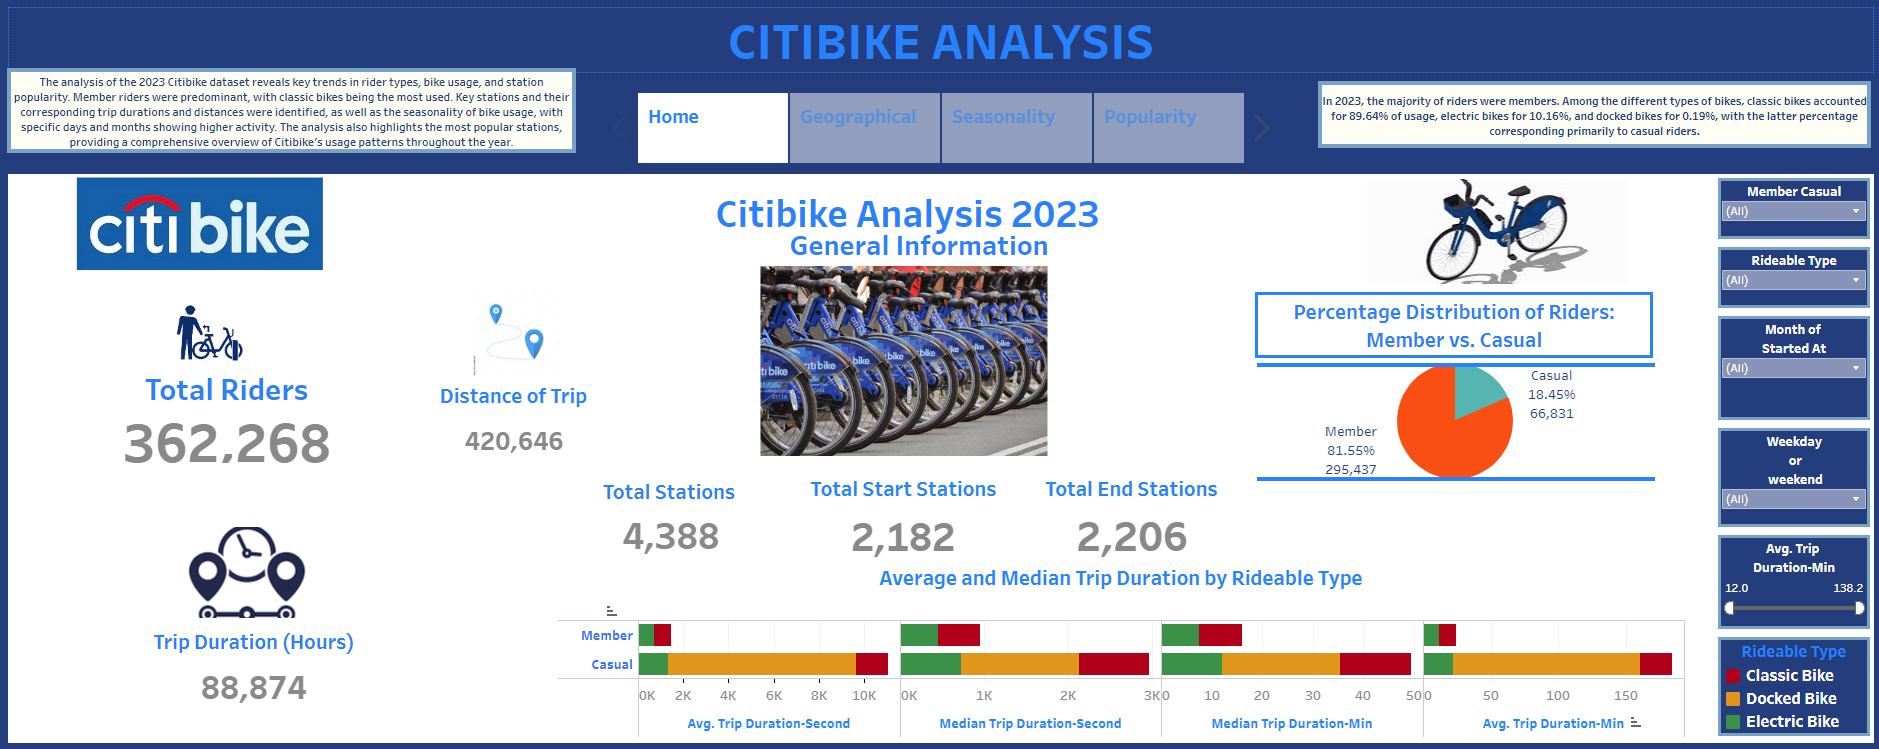

What the dashboard file says about the page in this screenshot:
{"tool":"tableau","page":{"name":"General Information","canvas":[1000,1000],"units":"permille","ordinal":3},"visuals":[{"type":"filter","title":"Member vs Casual pie","param":"[federated.0w41ppg0dqevix11k8kzt1k9ii9s].[none:member_casual:nk]","box":[906.5,0,93.5,75.9]},{"type":"image","param":"C:/Users/Isbelis/Documents/Bootcamp/Homework/Tableau-challenge/CITIBIKE-TABLEAU-","box":[700.6,9.3,194.7,184.6]},{"type":"title","box":[247.6,12.8,468.8,106.3]},{"type":"image","param":"C:/Users/Isbelis/Documents/Bootcamp/Homework/Tableau-challenge/CITIBIKE-TABLEAU-","box":[102.3,54.9,154.9,102.8]},{"type":"text","box":[320.1,74.8,336.4,95.8]},{"type":"filter","title":"Member vs Casual pie","param":"[federated.0w41ppg0dqevix11k8kzt1k9ii9s].[none:rideable_type:nk]","box":[906.5,75.9,93.5,75.9]},{"type":"image","param":"C:/Users/Isbelis/Documents/Bootcamp/Homework/Tableau-challenge/CITIBIKE-TABLEAU-","box":[376.4,150.7,225.6,269.9]},{"type":"filter","title":"Member vs Casual pie","param":"[federated.0w41ppg0dqevix11k8kzt1k9ii9s].[mn:started_at:ok]","box":[906.5,151.9,93.5,130.8]},{"type":"text","box":[4.1,154.2,350.7,204.4]},{"type":"worksheet","title":"Member vs Casual pie","mark":"Pie","box":[668.4,206.8,214,332.9]},{"type":"filter","title":"Member vs Casual pie","param":"[federated.0w41ppg0dqevix11k8kzt1k9ii9s].[none:Calculation_2480639024720158736:n","box":[906.5,282.7,93.5,118]},{"type":"image","param":"C:/Users/Isbelis/Documents/Bootcamp/Homework/Tableau-challenge/CITIBIKE-TABLEAU-","box":[46.2,361,67.8,98.1]},{"type":"worksheet","title":"Total Stations ","mark":"Automatic","box":[152.5,363.3,116.9,146]},{"type":"worksheet","title":"Total Start Station","mark":"Text","box":[261.2,369.2,122.2,142.5]},{"type":"image","param":"C:/Users/Isbelis/Documents/Bootcamp/Homework/Tableau-challenge/CITIBIKE-TABLEAU-","box":[432.5,428.7,86.5,116.8]},{"type":"worksheet","title":"Total Rides","mark":"Automatic","box":[15.8,466.1,132.7,168.2]},{"type":"worksheet","title":"Total EndStation ","mark":"Text","box":[210.4,498.8,116.9,137.8]},{"type":"worksheet","title":"Total Distance","mark":"Automatic","box":[472.8,515.2,126.8,150.7]},{"type":"legend","title":"Rideable Type AVG and Median Trip duration","param":"[federated.0w41ppg0dqevix11k8kzt1k9ii9s].[none:rideable_type:nk]","box":[912.3,606.3,85.3,196.3]},{"type":"image","param":"C:/Users/Isbelis/Documents/Bootcamp/Homework/Tableau-challenge/CITIBIKE-TABLEAU-","box":[32.7,636.7,102.9,139]},{"type":"worksheet","title":"Rideable Type AVG and Median Trip duration","mark":"Bar","rows":["member_casual"],"cols":["Calculation_2480639023797616648","Calculation_2480639023797616648","Calculation_2480639023798222857","Calculation_2480639023798222857"],"box":[209.2,662.4,603.7,318.9]},{"type":"worksheet","title":"Total Trips","mark":"Automatic","box":[14.6,754.7,150.2,156.5]}]}

Visuals, with their boxes on the dashboard's canvas, which has no fixed pixel size, in thousandths of its width and height (x1, y1, x2, y2). These are canvas units, not pixel positions in the 1879x749 screenshot, which may show the page scaled, cropped or inside an application window:
"Member vs Casual pie" filter: [left=906, top=0, right=1000, bottom=76]
image: [left=701, top=9, right=895, bottom=194]
title: [left=248, top=13, right=716, bottom=119]
image: [left=102, top=55, right=257, bottom=158]
text: [left=320, top=75, right=656, bottom=171]
"Member vs Casual pie" filter: [left=906, top=76, right=1000, bottom=152]
image: [left=376, top=151, right=602, bottom=421]
"Member vs Casual pie" filter: [left=906, top=152, right=1000, bottom=283]
text: [left=4, top=154, right=355, bottom=359]
"Member vs Casual pie" worksheet (Pie marks): [left=668, top=207, right=882, bottom=540]
"Member vs Casual pie" filter: [left=906, top=283, right=1000, bottom=401]
image: [left=46, top=361, right=114, bottom=459]
"Total Stations " worksheet: [left=152, top=363, right=269, bottom=509]
"Total Start Station" worksheet (Text marks): [left=261, top=369, right=383, bottom=512]
image: [left=432, top=429, right=519, bottom=546]
"Total Rides" worksheet: [left=16, top=466, right=148, bottom=634]
"Total EndStation " worksheet (Text marks): [left=210, top=499, right=327, bottom=637]
"Total Distance" worksheet: [left=473, top=515, right=600, bottom=666]
"Rideable Type AVG and Median Trip duration" legend: [left=912, top=606, right=998, bottom=803]
image: [left=33, top=637, right=136, bottom=776]
"Rideable Type AVG and Median Trip duration" worksheet (Bar marks): [left=209, top=662, right=813, bottom=981]
"Total Trips" worksheet: [left=15, top=755, right=165, bottom=911]
